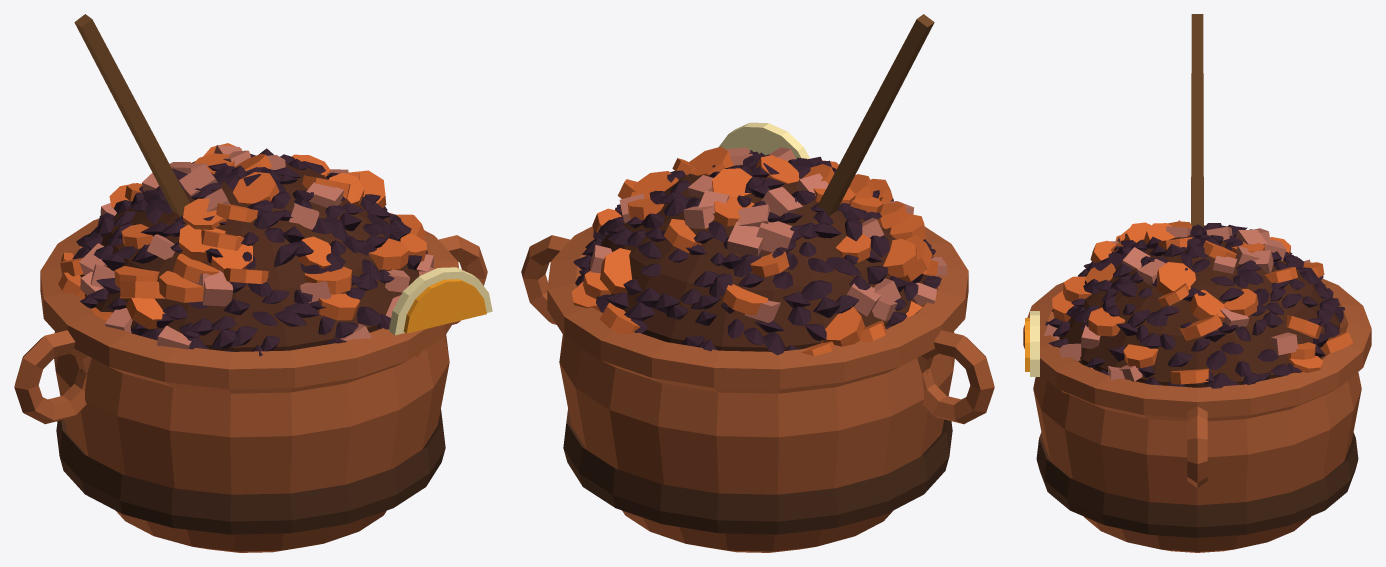
Rendered from feijoada.obj.
3 renders of one model, left to right at view 1: azimuth 30°, elevation 25°; view 2: azimuth 150°, elevation 25°; view 3: azimuth 270°, elevation 25°, orthographic. The views are drawn at different scales.
Visible parts, largest first — view 1: A_Pot.001_feijoada_clay, A_Stew.001_feijoada_bean, A_Stew.001_feijoada_sausage, A_PotBase.001_feijoada_soot, A_Stew.001_feijoada_broth, A_Stew.001_feijoada_pork, D_LadleHandle.001_feijoada_ladle, A_HandleL.001_feijoada_clay, E_OrangeFlesh.001_feijoada_orange, E_OrangeRind.001_feijoada_pith, A_HandleR.001_feijoada_clay; view 2: A_Pot.001_feijoada_clay, A_Stew.001_feijoada_bean, A_Stew.001_feijoada_sausage, A_PotBase.001_feijoada_soot, A_Stew.001_feijoada_broth, A_Stew.001_feijoada_pork, D_LadleHandle.001_feijoada_ladle, A_HandleL.001_feijoada_clay, A_HandleR.001_feijoada_clay, E_OrangeRind.001_feijoada_pith; view 3: A_Pot.001_feijoada_clay, A_Stew.001_feijoada_bean, A_Stew.001_feijoada_sausage, A_Stew.001_feijoada_broth, A_PotBase.001_feijoada_soot, A_Stew.001_feijoada_pork, D_LadleHandle.001_feijoada_ladle, A_HandleR.001_feijoada_clay, E_OrangeRind.001_feijoada_pith.
Boxes of the visible parts, x1=… form: A_Pot.001_feijoada_clay: x1=40, y1=213, x2=458, y2=552; A_Stew.001_feijoada_bean: x1=72, y1=148, x2=427, y2=356; A_Stew.001_feijoada_sausage: x1=58, y1=143, x2=426, y2=356; A_PotBase.001_feijoada_soot: x1=56, y1=409, x2=445, y2=534; A_Stew.001_feijoada_broth: x1=80, y1=163, x2=419, y2=351; A_Stew.001_feijoada_pork: x1=79, y1=145, x2=434, y2=349; D_LadleHandle.001_feijoada_ladle: x1=74, y1=14, x2=189, y2=216; A_HandleL.001_feijoada_clay: x1=14, y1=330, x2=91, y2=424; E_OrangeFlesh.001_feijoada_orange: x1=403, y1=279, x2=486, y2=333; E_OrangeRind.001_feijoada_pith: x1=389, y1=267, x2=492, y2=335; A_HandleR.001_feijoada_clay: x1=438, y1=235, x2=487, y2=324; A_Pot.001_feijoada_clay: x1=547, y1=226, x2=968, y2=552; A_Stew.001_feijoada_bean: x1=573, y1=150, x2=941, y2=355; A_Stew.001_feijoada_sausage: x1=571, y1=146, x2=938, y2=355; A_PotBase.001_feijoada_soot: x1=563, y1=409, x2=952, y2=534; A_Stew.001_feijoada_broth: x1=588, y1=165, x2=926, y2=351; A_Stew.001_feijoada_pork: x1=590, y1=147, x2=947, y2=322; D_LadleHandle.001_feijoada_ladle: x1=817, y1=14, x2=934, y2=215; A_HandleL.001_feijoada_clay: x1=917, y1=330, x2=994, y2=424; A_HandleR.001_feijoada_clay: x1=521, y1=235, x2=570, y2=324; E_OrangeRind.001_feijoada_pith: x1=719, y1=122, x2=809, y2=159; A_Pot.001_feijoada_clay: x1=1023, y1=276, x2=1371, y2=552; A_Stew.001_feijoada_bean: x1=1045, y1=223, x2=1345, y2=388; A_Stew.001_feijoada_sausage: x1=1052, y1=221, x2=1352, y2=393; A_Stew.001_feijoada_broth: x1=1059, y1=235, x2=1339, y2=387; A_PotBase.001_feijoada_soot: x1=1036, y1=432, x2=1358, y2=537; A_Stew.001_feijoada_pork: x1=1044, y1=220, x2=1310, y2=381; D_LadleHandle.001_feijoada_ladle: x1=1191, y1=14, x2=1203, y2=227; A_HandleR.001_feijoada_clay: x1=1187, y1=406, x2=1207, y2=487; E_OrangeRind.001_feijoada_pith: x1=1030, y1=311, x2=1039, y2=376.
Size of the model in its own units: 2.71 by 2.91 by 2.1.
